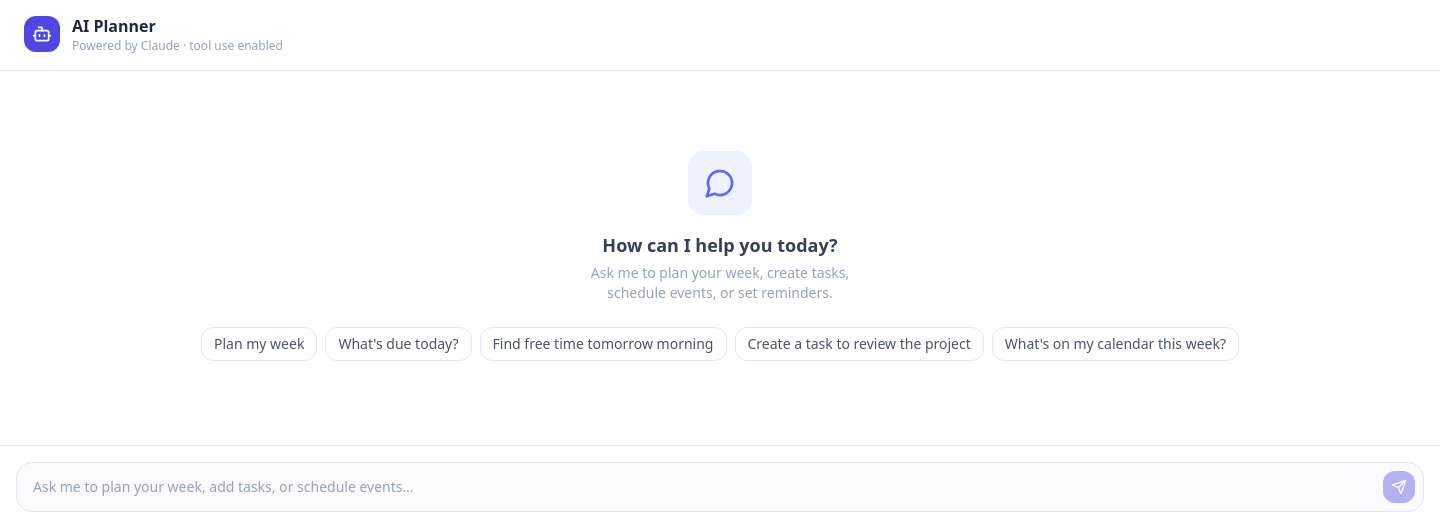
Test: ChatPanel › displays user message and assistant response
Step 1. Type "List tasks" into the text box with placeholder "Ask me to plan your week, add tasks, or schedule events…" → (700, 487), box [25, 471, 1375, 503]
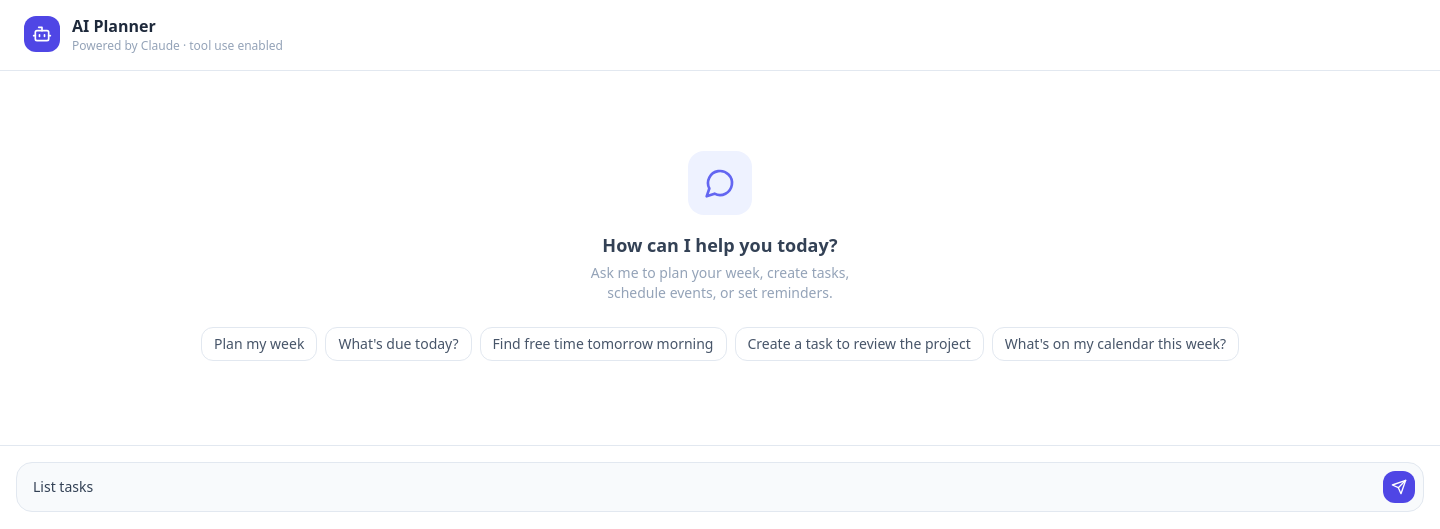
Step 2. Press Enter in the text box with placeholder "Ask me to plan your week, add tasks, or schedule events…", box [25, 471, 1375, 503]
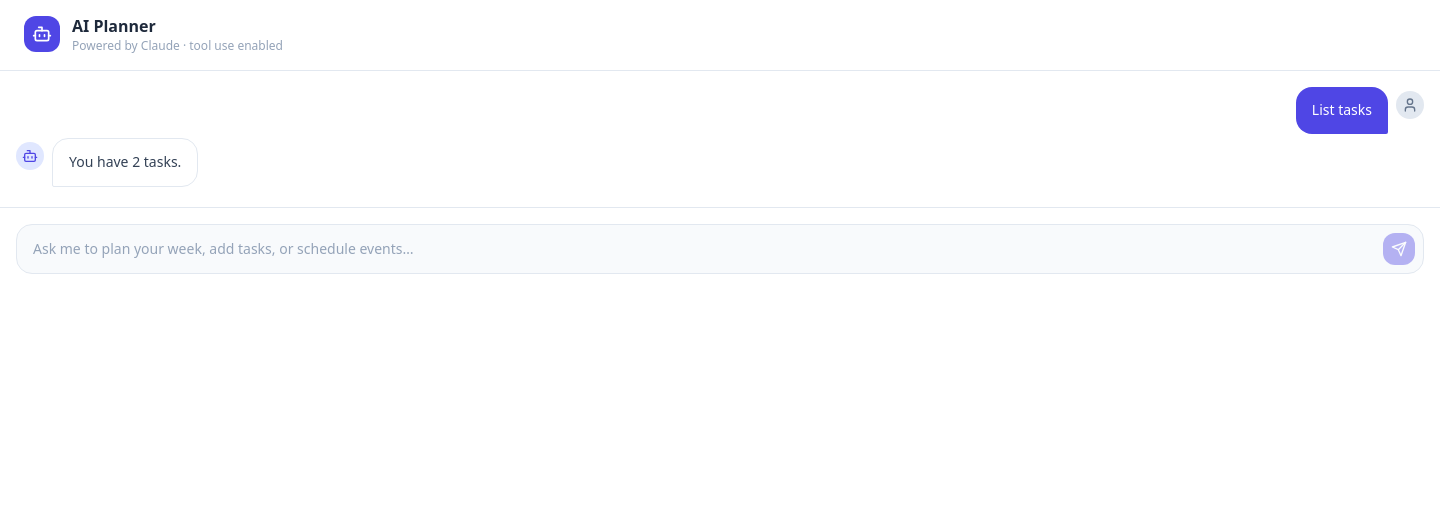
Check: the text "List tasks" is shown, box [1296, 87, 1388, 134]
Check: the text "You have 2 tasks." is shown, box [52, 138, 198, 187]
